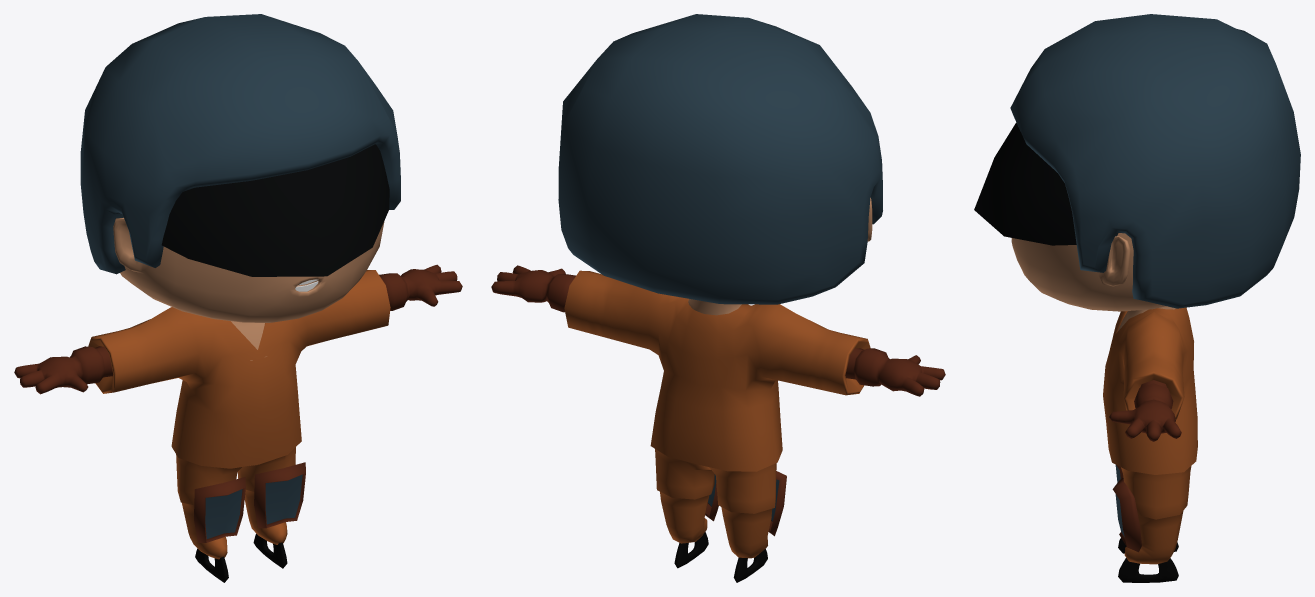
Rendered from SktHockeyV0.1.fbx.
3 views of the same model, side by side, from view 1: azimuth 30°, elevation 25°; view 2: azimuth 150°, elevation 25°; view 3: azimuth 270°, elevation 25° (orthographic).
Visible parts, largest first — view 1: hockey; view 2: hockey; view 3: hockey.
Part boxes in pixels (x1,y1,x2,y2): hockey: (14,14,462,582); hockey: (491,14,945,582); hockey: (974,14,1300,582).
Size of the model in its own units: 165 by 191 by 106.
